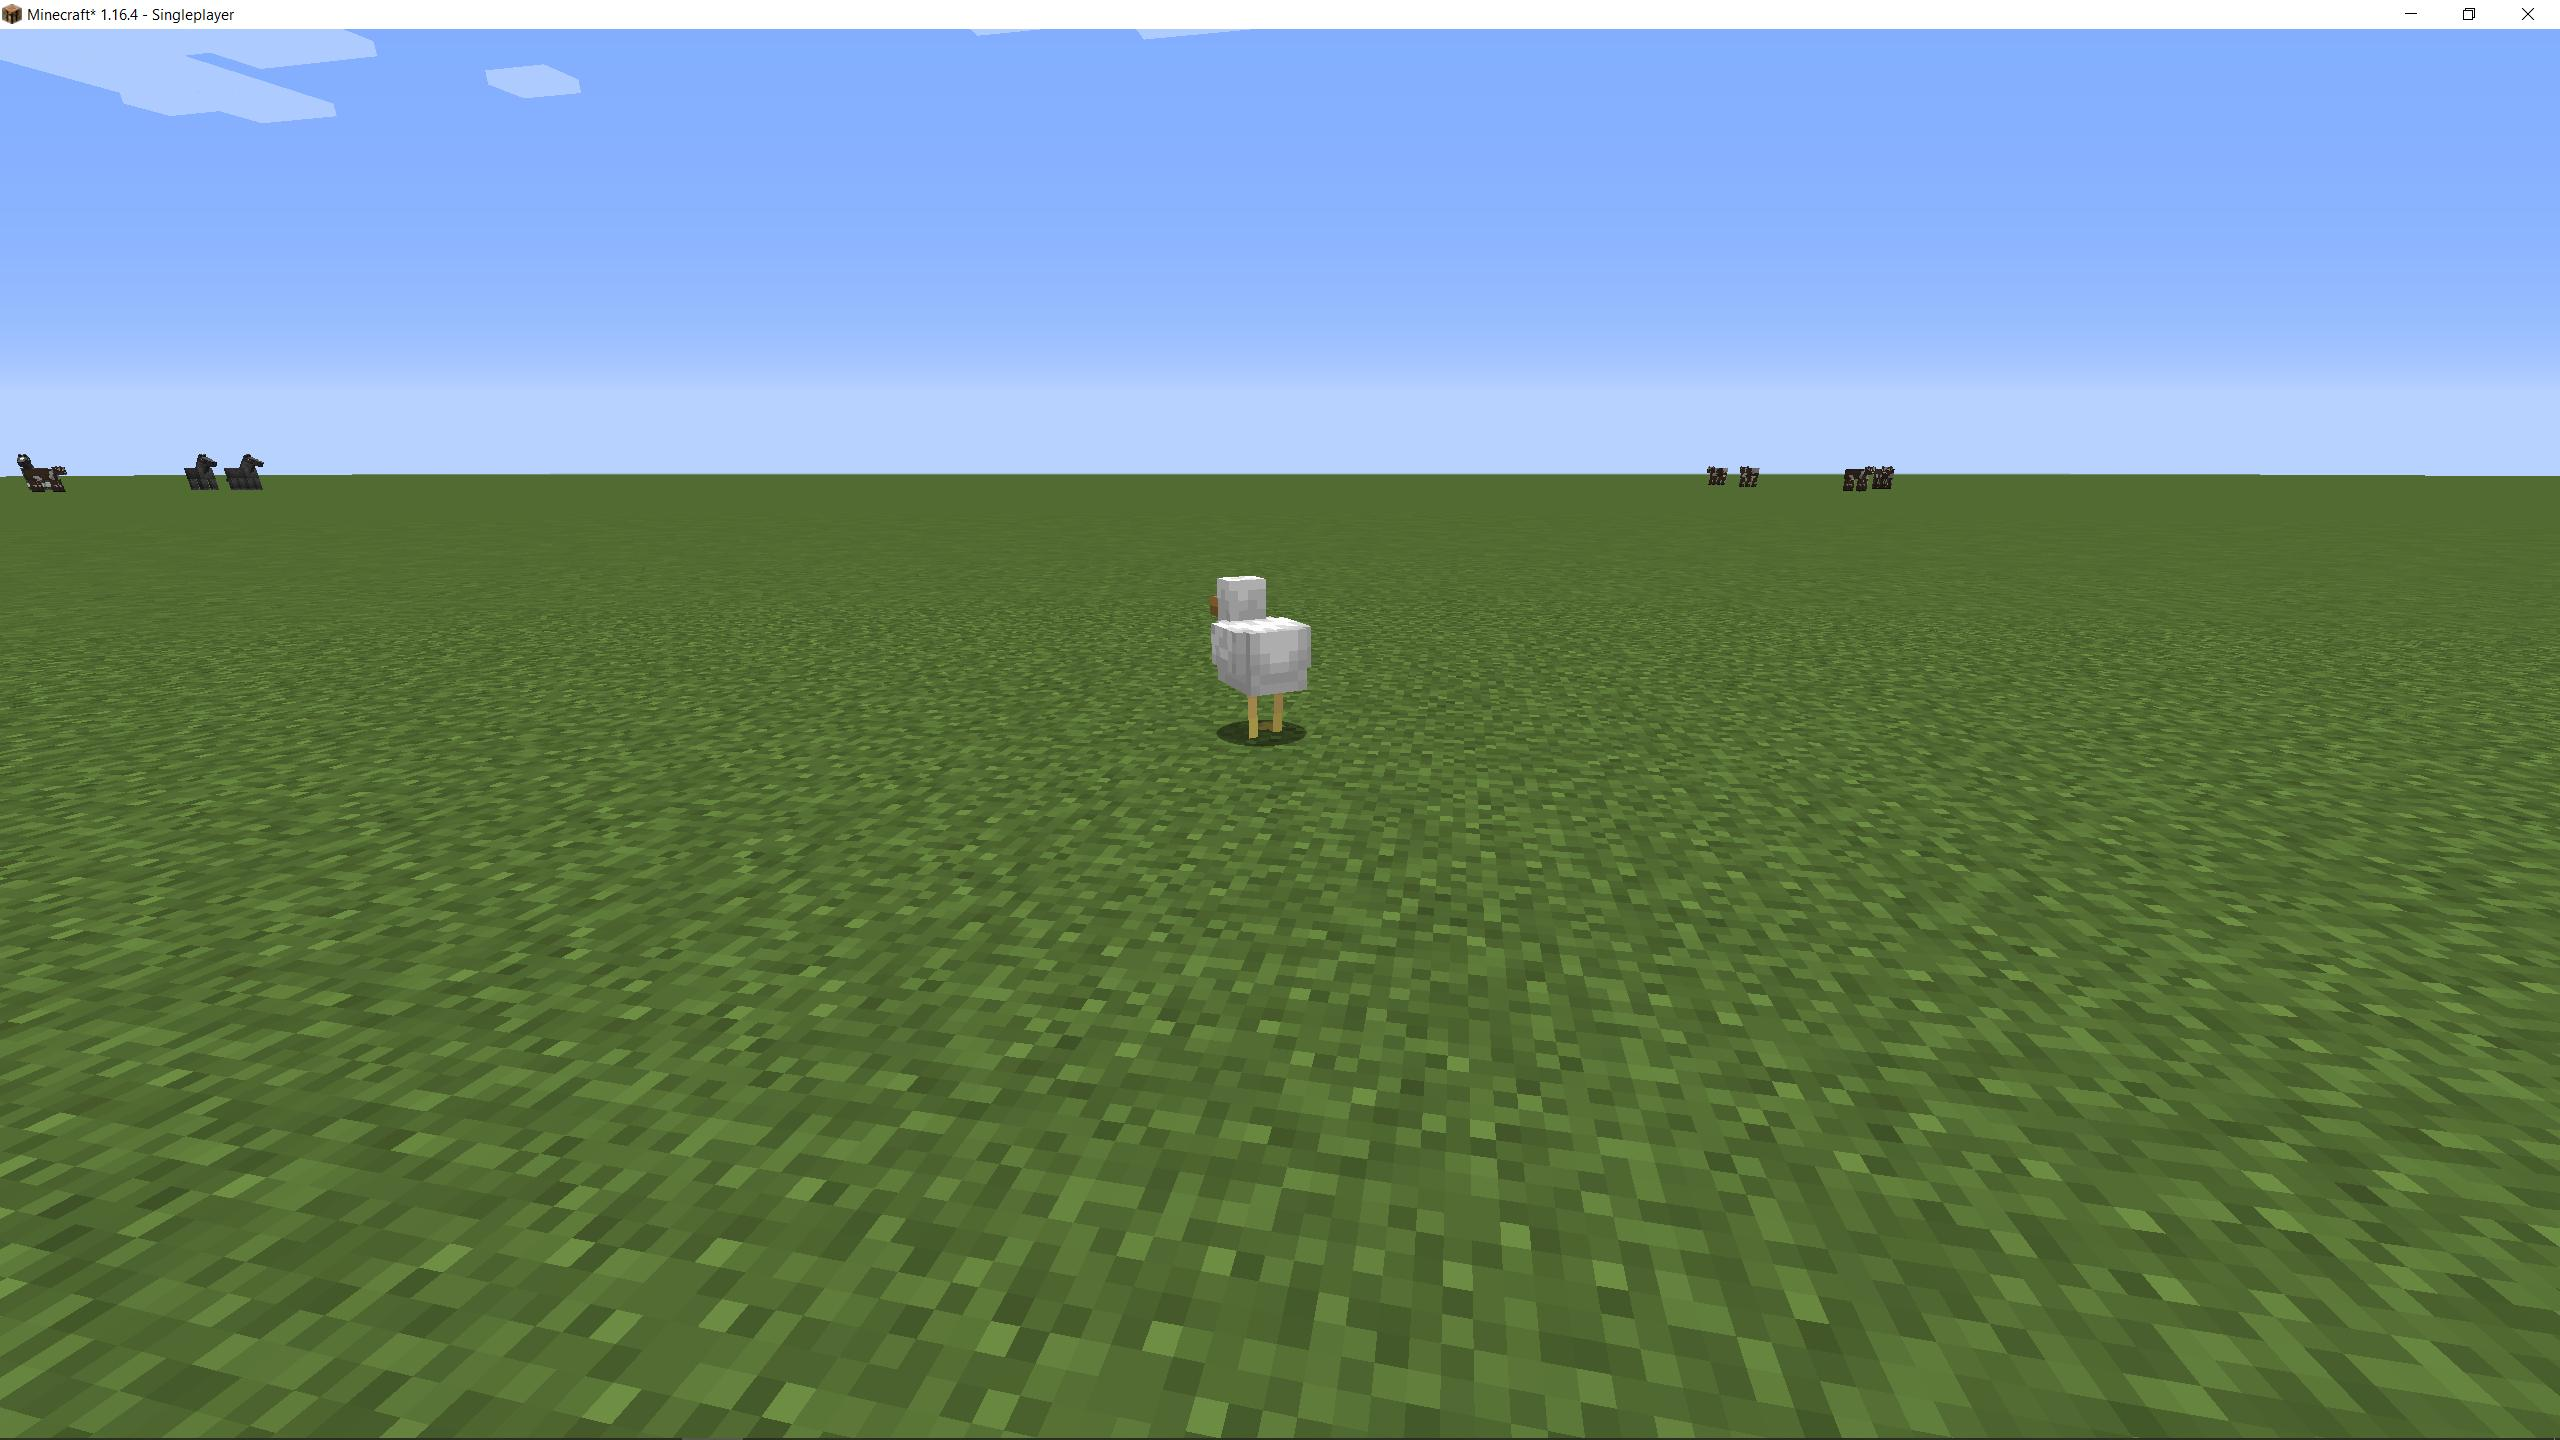chicken: (1203, 570, 1319, 745)
